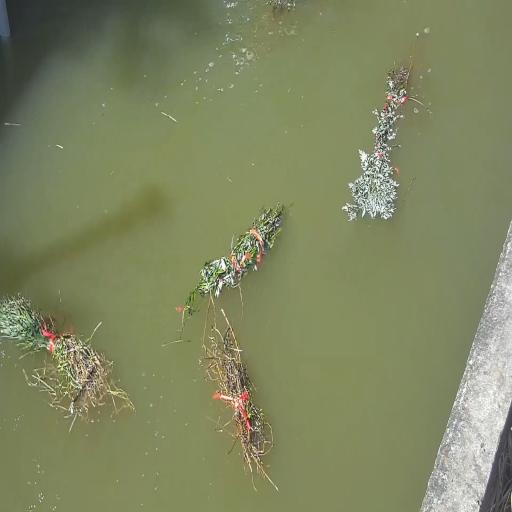twig: (0, 293, 135, 433), (201, 296, 278, 490), (343, 33, 422, 221), (183, 203, 284, 318)
